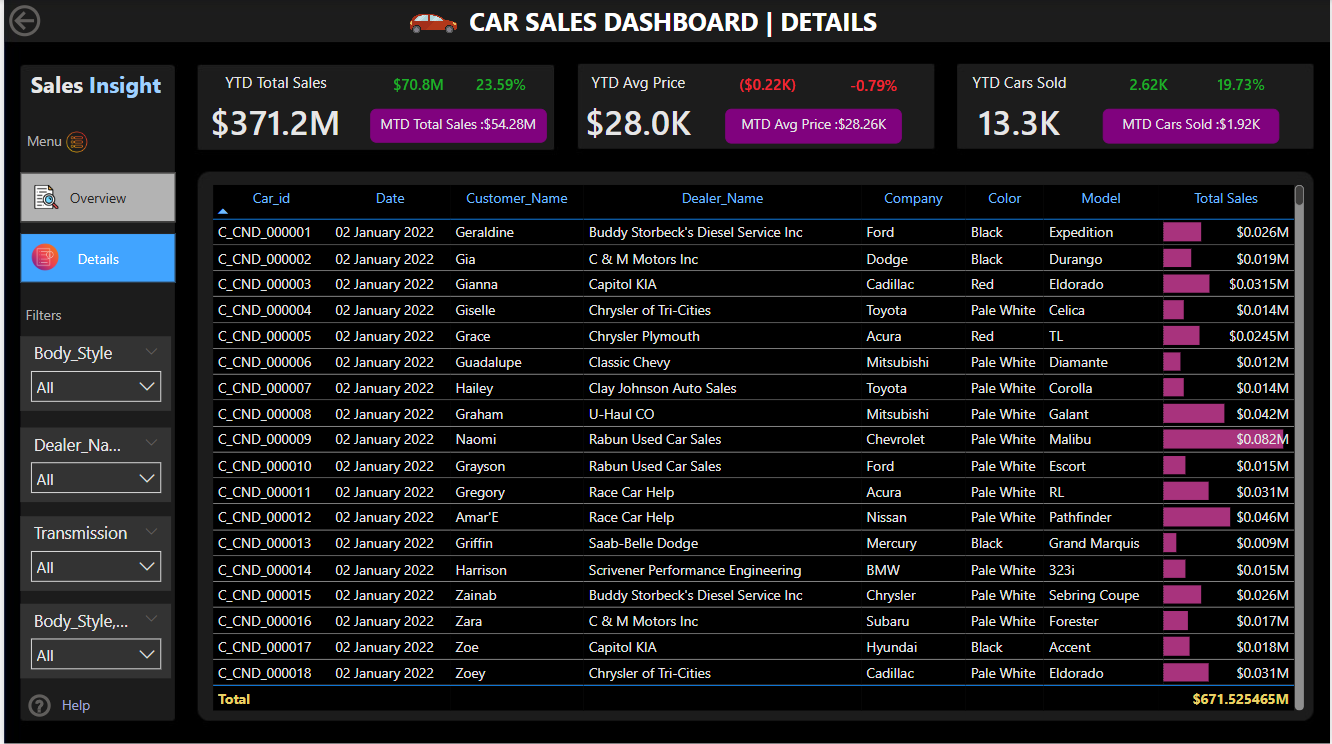

The dashboard page shown, as its layout file describes it:
{"tool":"powerbi","page":{"name":"Details","canvas":[1280,720],"ordinal":1},"visuals":[{"type":"card","title":"YTD Total Sales","fields":{"Values":["Car Sales.YTD Total Sales"]},"box":[182.7,69.1,160.5,79],"z":0},{"type":"card","fields":{"Values":["Car Sales.Sales Difference"]},"box":[355.4,68.6,89.2,26.1],"z":1000},{"type":"card","fields":{"Values":["Car Sales.YoY Sales Growth"]},"box":[435,68.6,89.2,26.1],"z":2000},{"type":"card","fields":{"Values":["Car Sales.MTD KPI"]},"box":[353,105,170,33],"z":3000},{"type":"card","title":"YTD Avg Price","fields":{"Values":["Car Sales.YTD avg price"]},"box":[532.1,69.1,160.5,79],"z":4000},{"type":"card","fields":{"Values":["Car Sales.Avg Price Diff"]},"box":[692.6,69.1,88.9,25.9],"z":5000},{"type":"card","fields":{"Values":["Car Sales.YoY Avg Price Growth"]},"box":[795.1,70.4,88.9,25.9],"z":6000},{"type":"card","fields":{"Values":["Car Sales.MTD AVg KPI"]},"box":[696.3,104.9,170.4,33.3],"z":7000},{"type":"card","title":"YTD Cars Sold","fields":{"Values":["Car Sales.YTD Cars Sold"]},"box":[900,69.1,160.5,79],"z":8000},{"type":"card","fields":{"Values":["Car Sales.Cars Sold Diff"]},"box":[1060.5,69.1,88.9,25.9],"z":9000},{"type":"card","fields":{"Values":["Car Sales.YoY Car Sold Growth"]},"box":[1149.4,69.1,88.9,25.9],"z":10000},{"type":"card","fields":{"Values":["Car Sales.MTD Cars Sold KPI"]},"box":[1060.5,104.9,170.4,33.3],"z":11000},{"type":"actionButton","box":[0,0,100,40],"z":12000},{"type":"textbox","box":[444.4,0,444.4,46.9],"z":13000},{"type":"slicer","fields":{"Values":["Car Sales.Body_Style"]},"box":[16,324.7,145.7,71.6],"z":14000},{"type":"slicer","fields":{"Values":["Car Sales.Dealer_Name"]},"box":[16,412.3,145.7,71.6],"z":15000},{"type":"slicer","fields":{"Values":["Car Sales.Transmission"]},"box":[16,498.8,145.7,71.6],"z":16000},{"type":"slicer","fields":{"Values":["Car Sales.Body_Style","Car Sales.Engine"]},"box":[16,582.7,145.7,71.6],"z":17000},{"type":"tableEx","fields":{"Values":["Car Sales.Car_id","Car Sales.Date","Car Sales.Customer_Name","Car Sales.Dealer_Name","Car Sales.Company","Car Sales.Color","Car Sales.Model","Car Sales.Total Sales"]},"box":[195.1,174.1,1064.2,517.3],"z":18000},{"type":"textbox","box":[16,290.1,150.6,34.6],"z":19000},{"type":"textbox","box":[11.1,61.7,155.6,39.5],"z":20000},{"type":"textbox","box":[50.6,665.4,58,34.6],"z":21000},{"type":"pageNavigator","box":[16,166.7,150.6,107.4],"z":22000},{"type":"image","box":[22.7,173.6,35.5,32.7],"z":23000},{"type":"image","box":[385.2,4.9,59.3,35.8],"z":24000},{"type":"image","box":[21.8,229.1,36.4,37.3],"z":25000},{"type":"image","box":[50,121.8,41.8,30.9],"z":26000},{"type":"actionButton","box":[19.1,665.5,103.6,30],"z":27000},{"type":"textbox","box":[16.9,121.9,54.3,35],"z":28000}]}

Visuals, with their boxes on the page's 1280x720 design canvas (x1, y1, x2, y2). These are canvas units, not pixel positions in the 1332x744 screenshot, which may show the page scaled, cropped or inside an application window:
"YTD Total Sales" card: bbox(183, 69, 343, 148)
card - Car Sales.Sales Difference: bbox(355, 69, 445, 95)
card - Car Sales.YoY Sales Growth: bbox(435, 69, 524, 95)
card - Car Sales.MTD KPI: bbox(353, 105, 523, 138)
"YTD Avg Price" card: bbox(532, 69, 693, 148)
card - Car Sales.Avg Price Diff: bbox(693, 69, 782, 95)
card - Car Sales.YoY Avg Price Growth: bbox(795, 70, 884, 96)
card - Car Sales.MTD AVg KPI: bbox(696, 105, 867, 138)
"YTD Cars Sold" card: bbox(900, 69, 1060, 148)
card - Car Sales.Cars Sold Diff: bbox(1060, 69, 1149, 95)
card - Car Sales.YoY Car Sold Growth: bbox(1149, 69, 1238, 95)
card - Car Sales.MTD Cars Sold KPI: bbox(1060, 105, 1231, 138)
actionButton: bbox(0, 0, 100, 40)
textbox: bbox(444, 0, 889, 47)
slicer - Car Sales.Body_Style: bbox(16, 325, 162, 396)
slicer - Car Sales.Dealer_Name: bbox(16, 412, 162, 484)
slicer - Car Sales.Transmission: bbox(16, 499, 162, 570)
slicer - Car Sales.Body_Style x Car Sales.Engine: bbox(16, 583, 162, 654)
tableEx - Car Sales.Car_id x Car Sales.Date: bbox(195, 174, 1259, 691)
textbox: bbox(16, 290, 167, 325)
textbox: bbox(11, 62, 167, 101)
textbox: bbox(51, 665, 109, 700)
pageNavigator: bbox(16, 167, 167, 274)
image: bbox(23, 174, 58, 206)
image: bbox(385, 5, 444, 41)
image: bbox(22, 229, 58, 266)
image: bbox(50, 122, 92, 153)
actionButton: bbox(19, 666, 123, 696)
textbox: bbox(17, 122, 71, 157)
